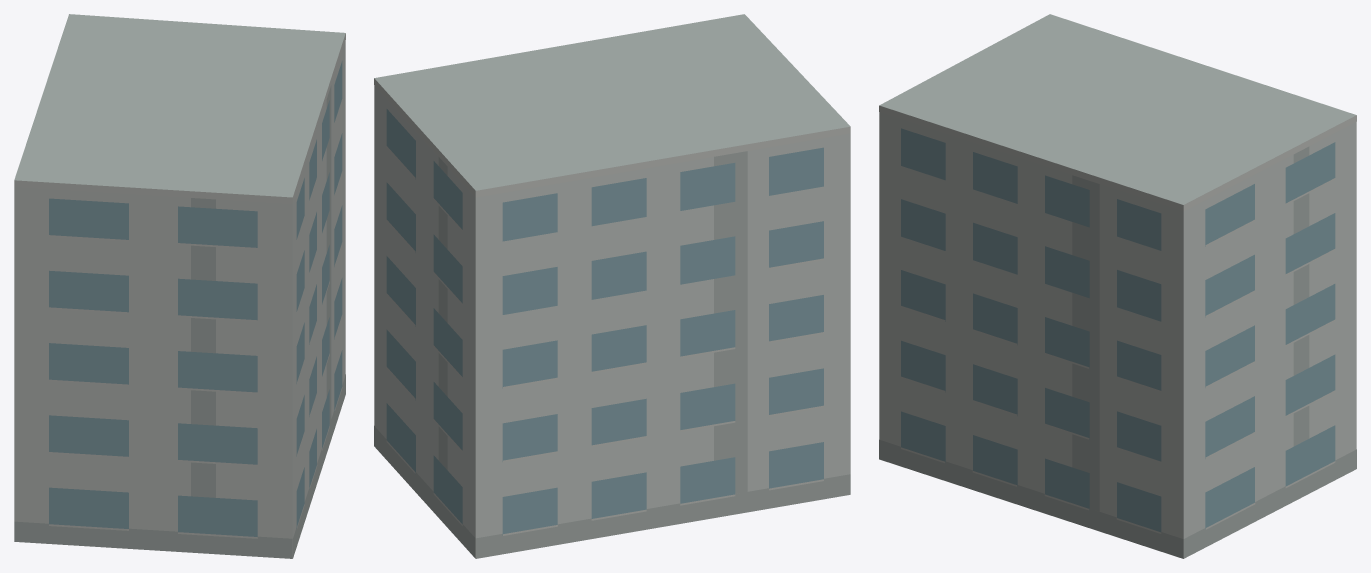
The model's file is survey-upis-32847566.glb.
3 renders of one model, left to right at view 1: azimuth 30°, elevation 25°; view 2: azimuth 150°, elevation 25°; view 3: azimuth 270°, elevation 25°, orthographic. The views are drawn at different scales.
Visible parts, largest first — view 1: survey-upis-32847566.tmp; view 2: survey-upis-32847566.tmp; view 3: survey-upis-32847566.tmp.
Part boxes in pixels (<box>): survey-upis-32847566.tmp: <box>14,14,345,558</box>; survey-upis-32847566.tmp: <box>374,14,850,558</box>; survey-upis-32847566.tmp: <box>879,14,1356,558</box>.
Size of the model in its own units: 15.23 by 13.15 by 16.09.
